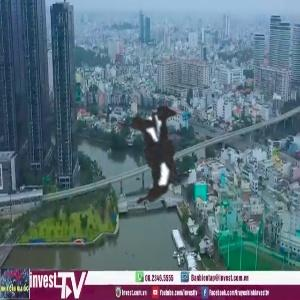drone: (18, 10, 300, 292)
